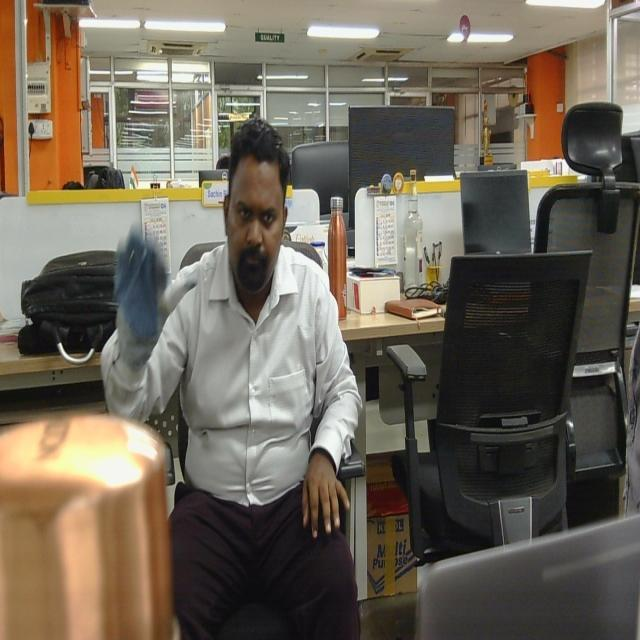Gloves-Detection: (105, 222, 177, 370)
